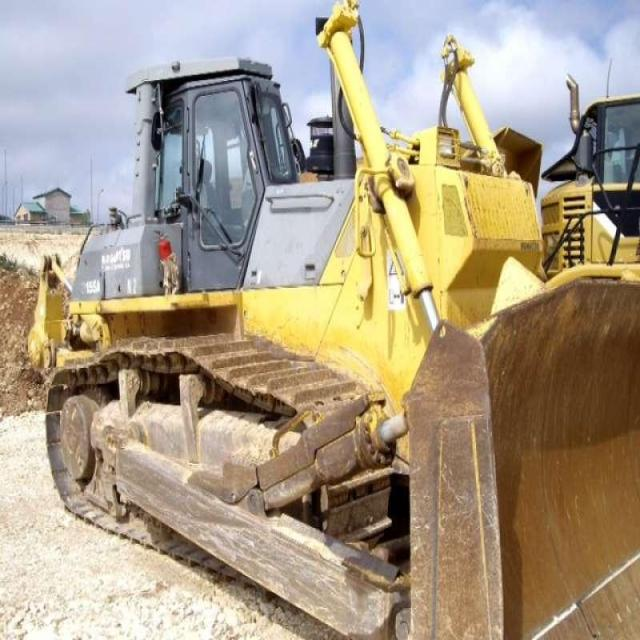Bulldozer: (28, 19, 639, 639)
